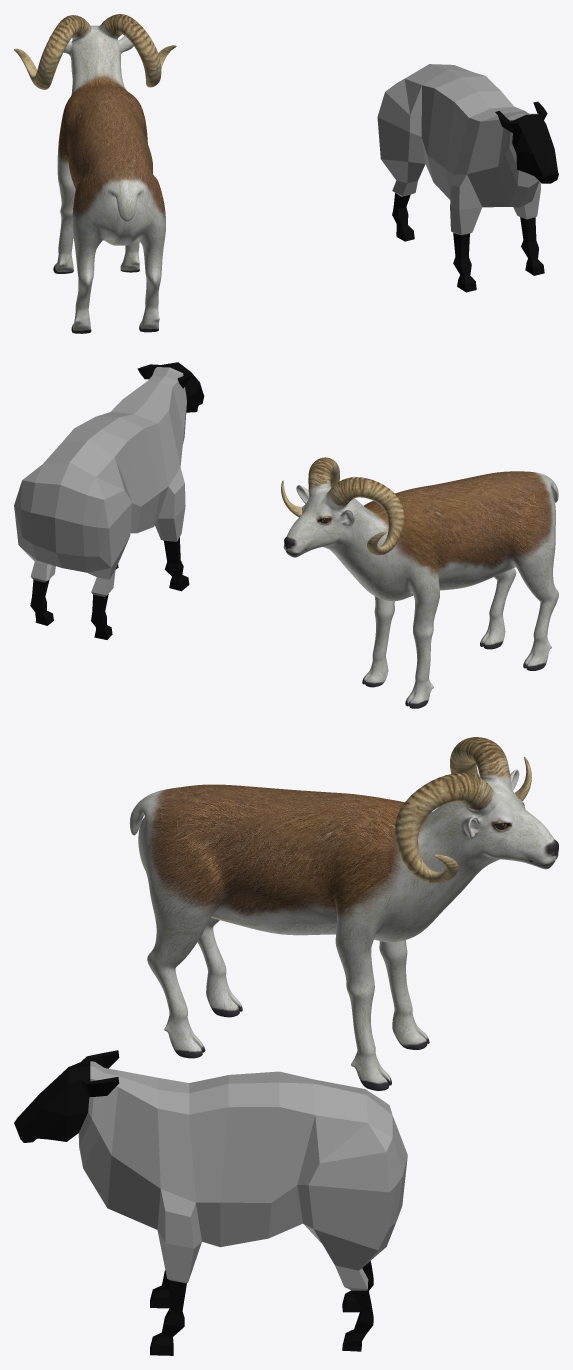
The model's file is 13574_Marco_Polo_Sheep_resized.obj.
The picture shows the model from 3 angles, top to bottom: view 1: azimuth 30°, elevation 25°; view 2: azimuth 150°, elevation 25°; view 3: azimuth 270°, elevation 25°; orthographic projection. The views are drawn at different scales.
Parts seen in each view (by area): view 1: 13574_Marco_Polo_Sheep_v1_L3, Sheep_Cylinder; view 2: 13574_Marco_Polo_Sheep_v1_L3, Sheep_Cylinder; view 3: 13574_Marco_Polo_Sheep_v1_L3, Sheep_Cylinder.
Part boxes in pixels (left/top/right/bottom): 13574_Marco_Polo_Sheep_v1_L3: left=14, top=14, right=176, bottom=333; Sheep_Cylinder: left=377, top=64, right=558, bottom=292; 13574_Marco_Polo_Sheep_v1_L3: left=281, top=457, right=558, bottom=708; Sheep_Cylinder: left=14, top=362, right=204, bottom=639; 13574_Marco_Polo_Sheep_v1_L3: left=129, top=737, right=558, bottom=1090; Sheep_Cylinder: left=14, top=1050, right=407, bottom=1355.
Size of the model in its own units: 11.22 by 6.07 by 8.19.
3 materials, 1 textured.
